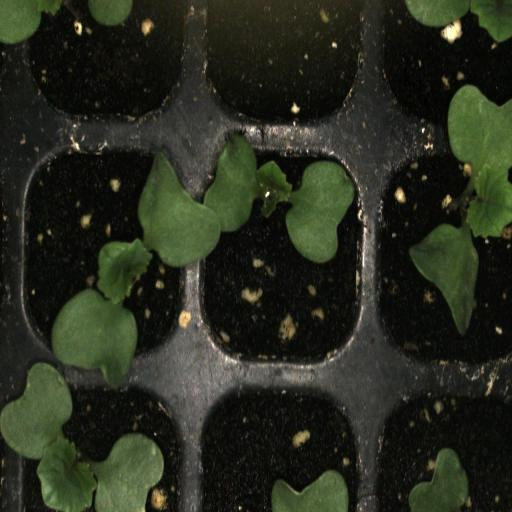noseedling: (198, 0, 374, 125)
seedling: (13, 134, 201, 372), (197, 130, 370, 372), (374, 128, 510, 376), (13, 372, 194, 512)
